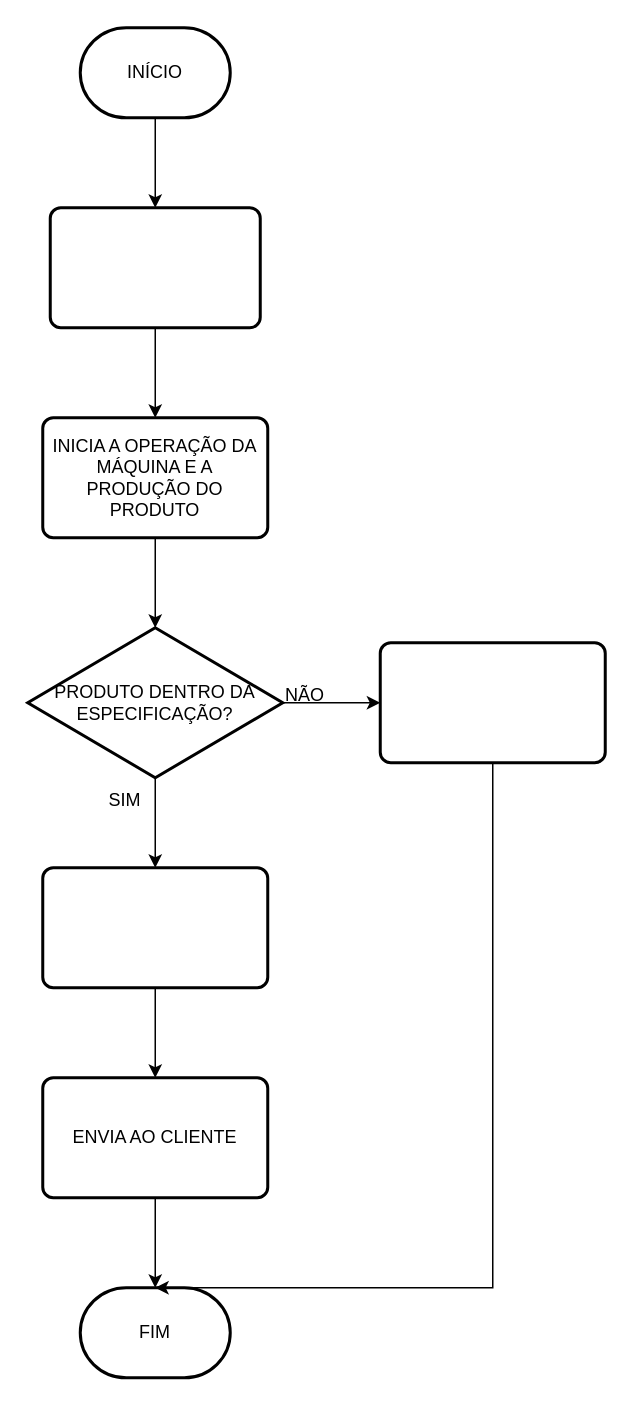
Image size: 632x1404. Some labels were removed from this diagram. The shapes that lost their labels are listed below. From the top down, each one's box as (x1, y1, x2, y2) in pixels, then its label:
(48, 206, 261, 328): COLOCA O INSUMO NA MAQUINA PARA PRODUÇÃO
(378, 640, 606, 764): DESCARTA O PRODUTO E ABRE UMA OCORRÊNCIA DE NÃO CONFORMIDADE
(40, 866, 268, 988): EMBALA O PRODUTO
